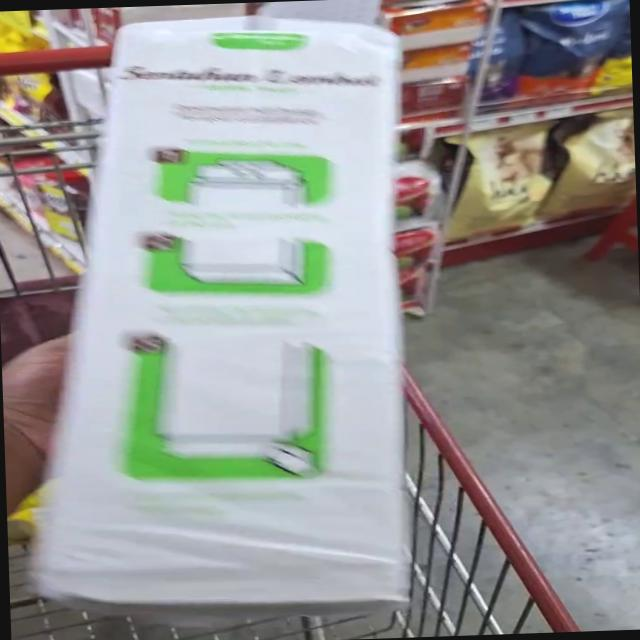Tisu: (17, 238, 444, 636), (79, 0, 428, 278)
